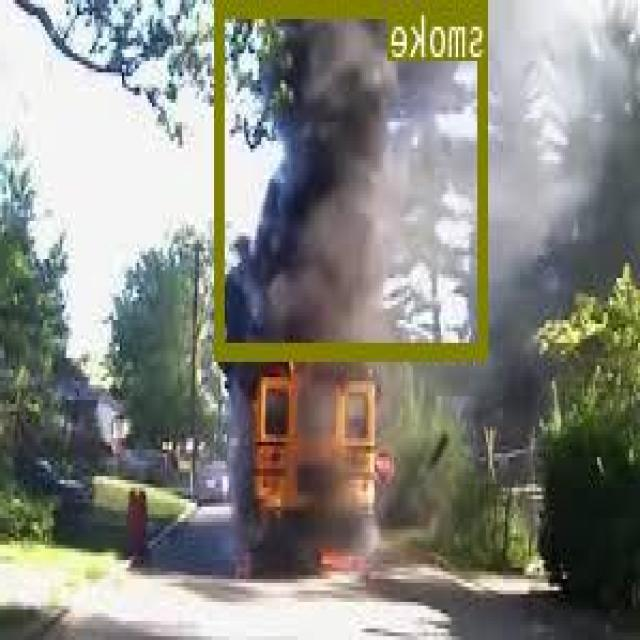smoke: (218, 0, 490, 354)
